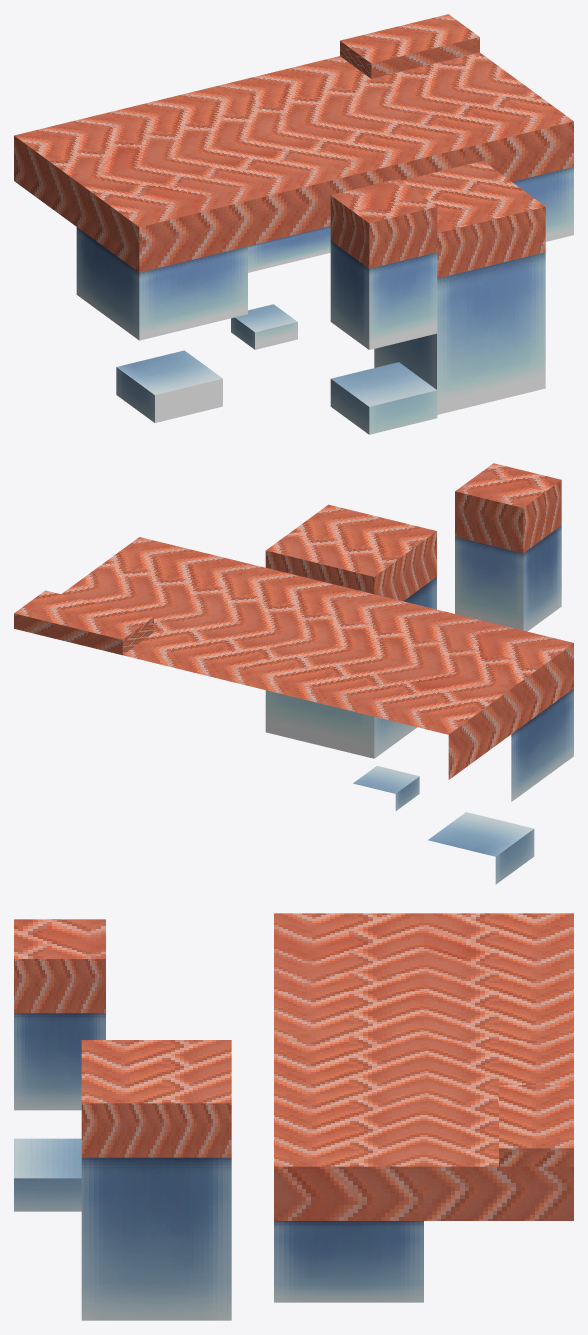
The model's file is a_ESDtrack01b.glb.
The picture shows the model from 3 angles, top to bottom: view 1: azimuth 30°, elevation 25°; view 2: azimuth 150°, elevation 25°; view 3: azimuth 270°, elevation 25°; orthographic projection. The views are drawn at different scales.
Visible parts, largest first — view 1: a_ESDtrack01b; view 2: a_ESDtrack01b; view 3: a_ESDtrack01b.
Boxes of the visible parts, bbox=[...] form: a_ESDtrack01b: bbox=[14, 14, 573, 434]; a_ESDtrack01b: bbox=[14, 463, 573, 884]; a_ESDtrack01b: bbox=[14, 913, 573, 1320].
Size of the model in its own units: 2 by 1.17 by 1.87.
Materials: 2 (2 with a texture image).
